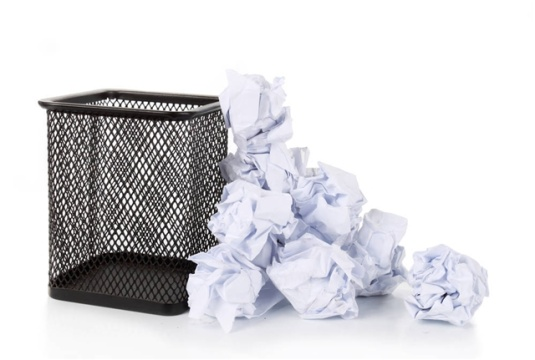flexible: (188, 72, 491, 328)
